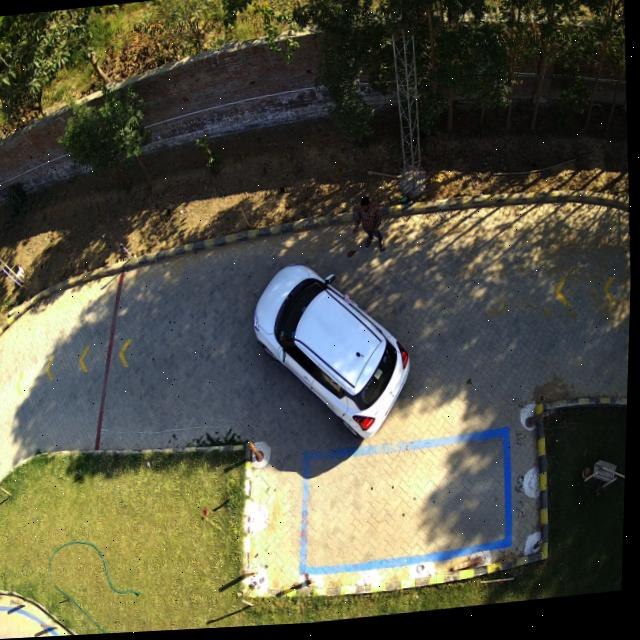car: (255, 268, 412, 442)
